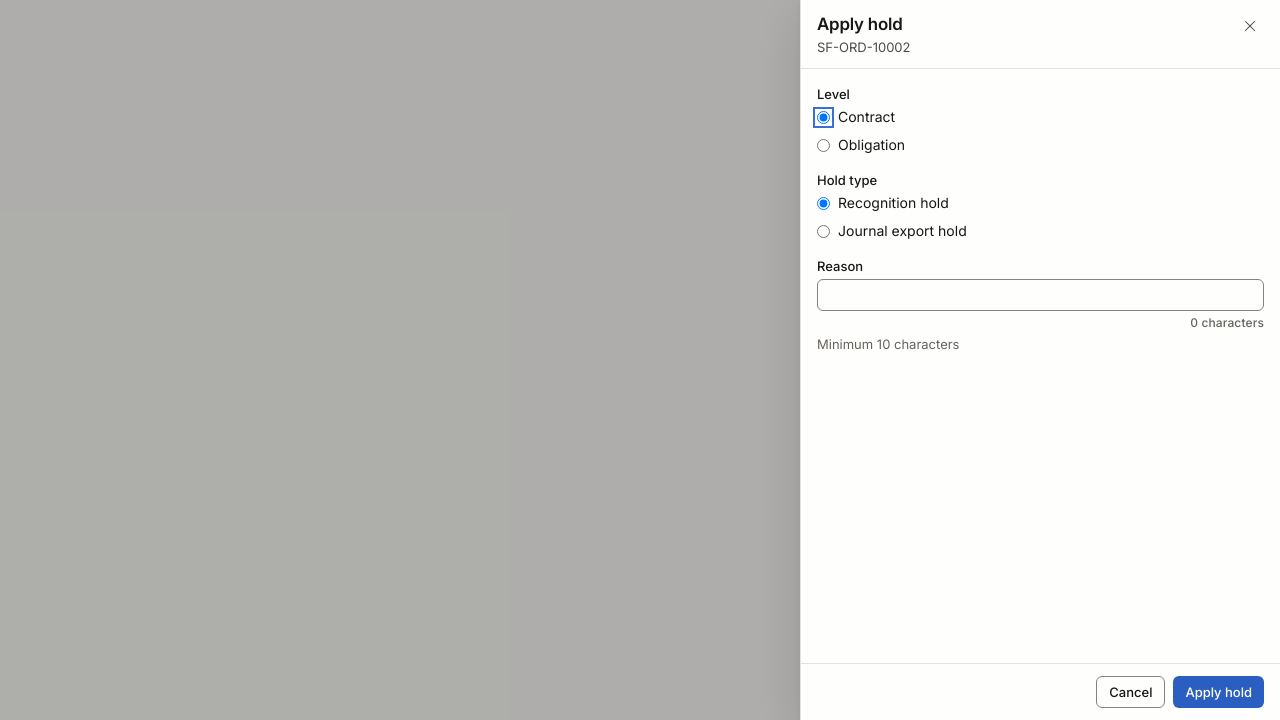
it: SF-03 Apply hold under a refused command › after a 412 the banner says that the record changed, in place of the problem
Step 1. Type "The customer disputes the September invoice." into the text box labelled "Reason" → x=1040, y=295, box x1=817 y1=279 x2=1264 y2=311
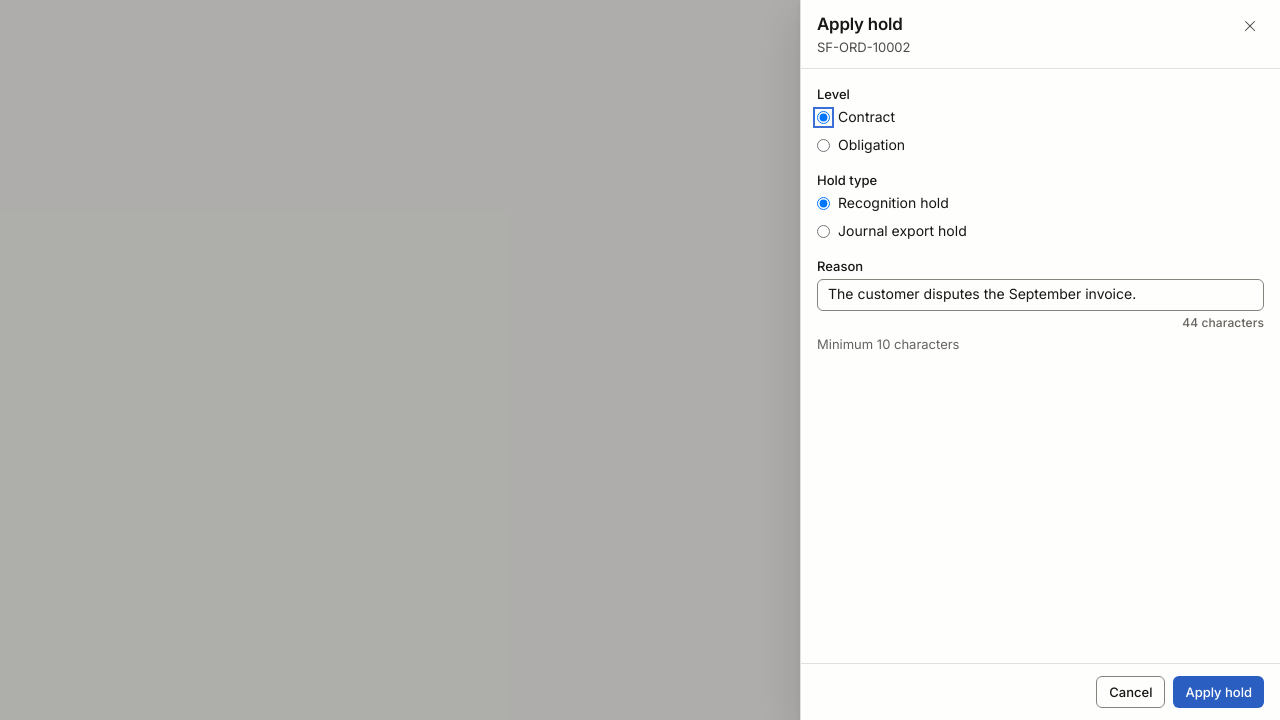
Step 2. Click the button "Apply hold" → x=1219, y=692, box x1=1173 y1=676 x2=1264 y2=708
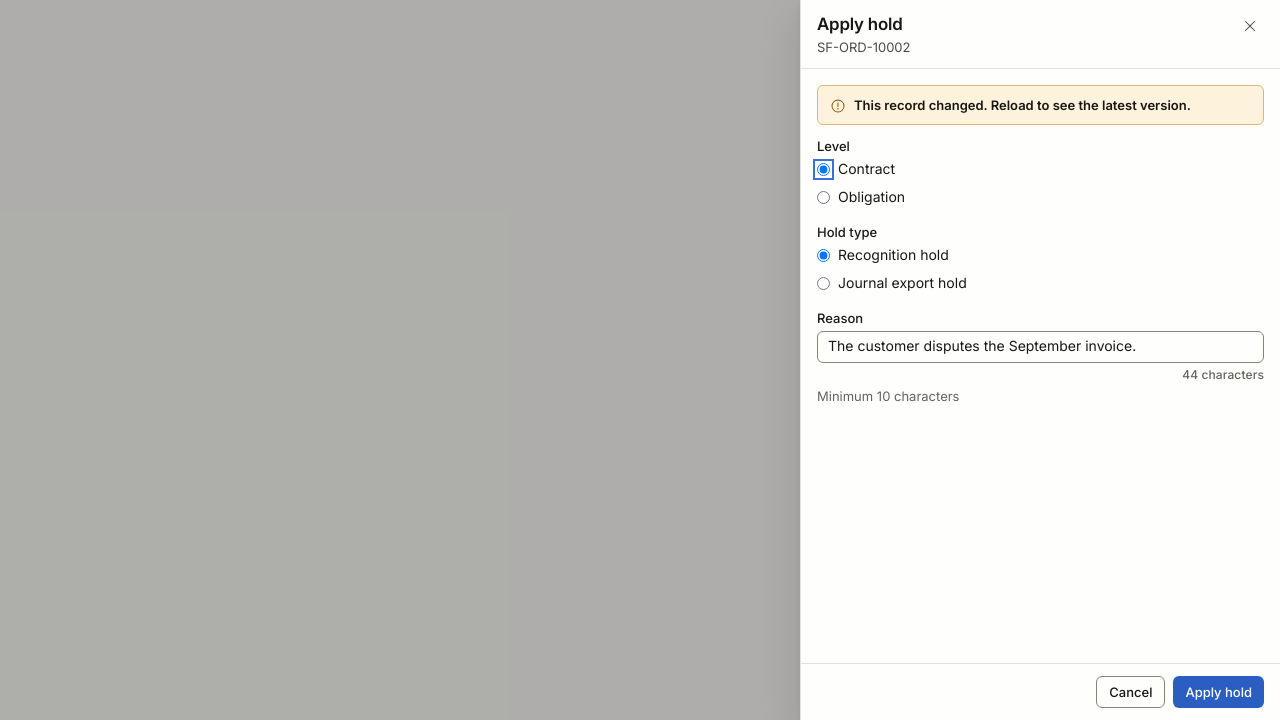
Expected: the heading "This record changed. Reload to see the latest version." is shown, x1=854 y1=97 x2=1191 y2=113
